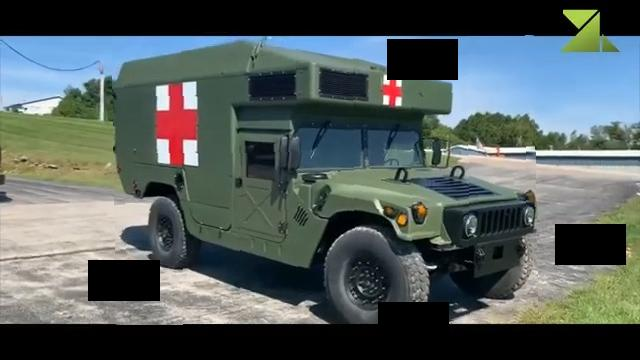MIL_HMMWV: (114, 37, 538, 324)
